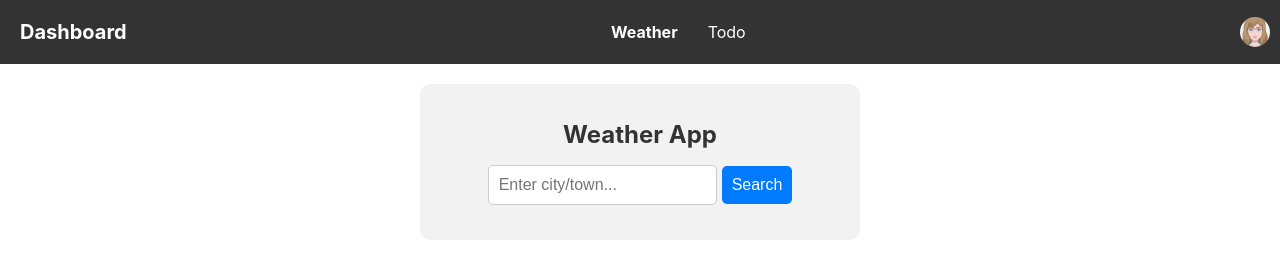
it: UserProfile Component › displays user information popup on profile picture click
The width and height of the screenshot is (1280, 257).
Click the picture with alt text "Profile": click(1255, 32) [1240,17,1270,47]
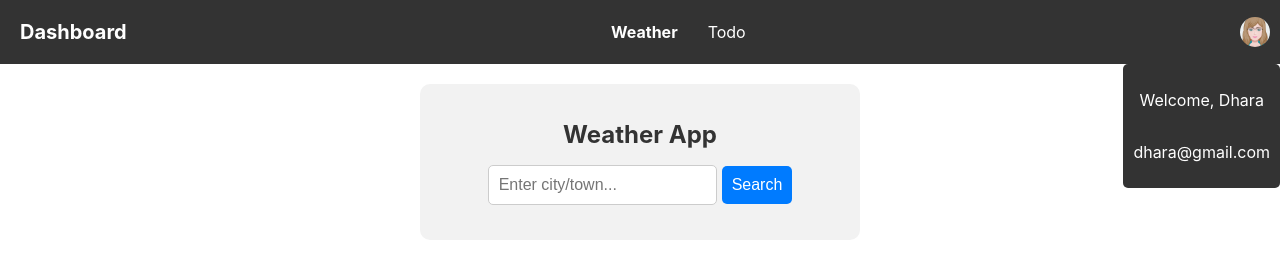
Result: the text "Welcome, Dhara" is shown at [1140,90,1264,110]
Result: the text "dhara@gmail.com" is shown at [1133,142,1270,162]
